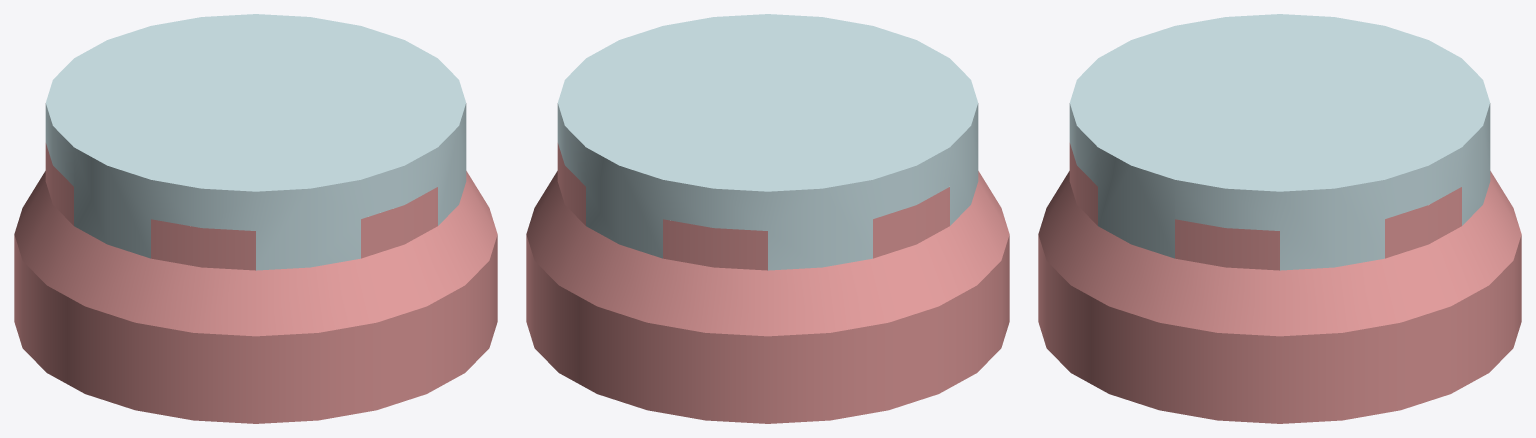
File: towerRound_bottomC.glb
3 renders of one model, left to right at view 1: azimuth 30°, elevation 25°; view 2: azimuth 150°, elevation 25°; view 3: azimuth 270°, elevation 25°, orthographic.
Visible parts, largest first — view 1: towerRound_bottomC; view 2: towerRound_bottomC; view 3: towerRound_bottomC.
Boxes of the visible parts, x1=… form: towerRound_bottomC: x1=14, y1=14, x2=497, y2=423; towerRound_bottomC: x1=526, y1=14, x2=1009, y2=423; towerRound_bottomC: x1=1038, y1=14, x2=1521, y2=423.
Size of the model in its own units: 1 by 0.5 by 1.
